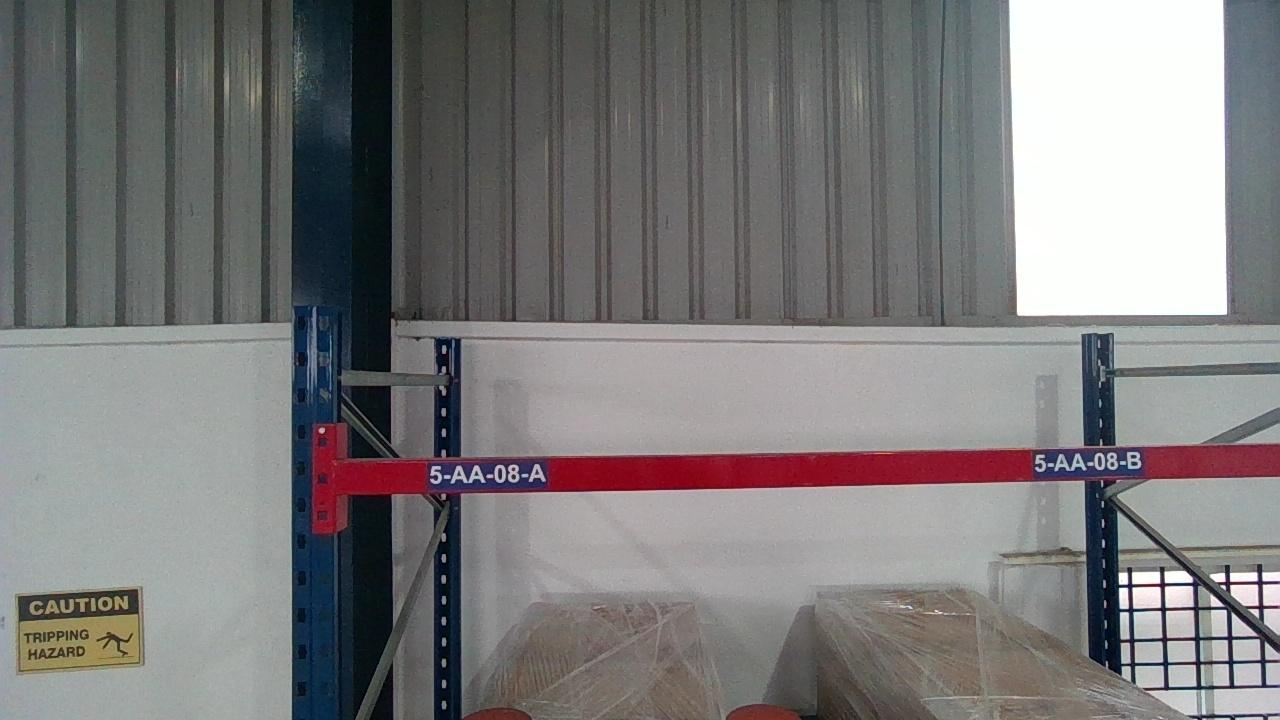h_rack: (335, 456, 1280, 477)
